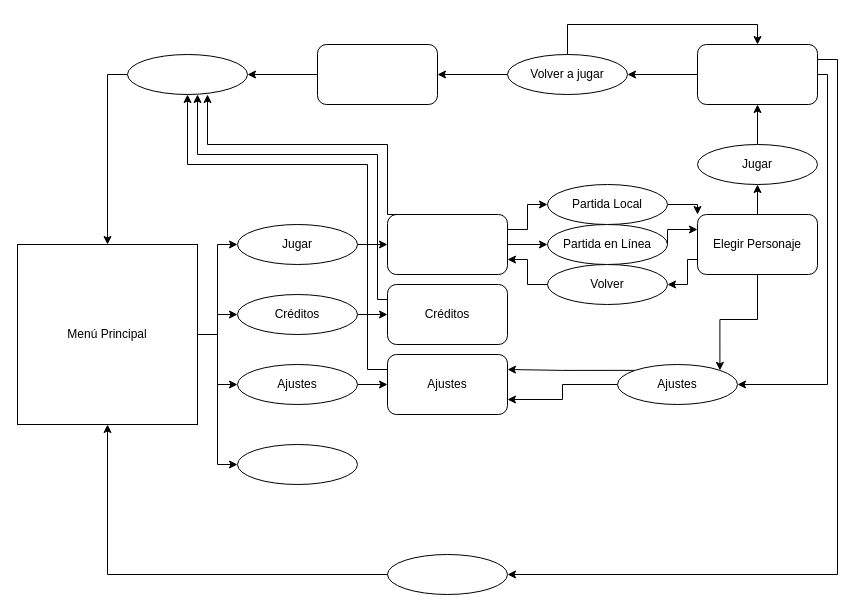
The diagram is 863 pixels wide and 612 high, and some of its shapes have lost their labels. The centre of each missing label's shape, as x and y in pixels:
"Modo de juego" belongs at (447,244).
"Partida" belongs at (757,74).
"Salir" belongs at (297,464).
"Salir al menú" belongs at (447,574).
"Victoria" belongs at (377,74).
"Volver al menú" belongs at (187,74).
